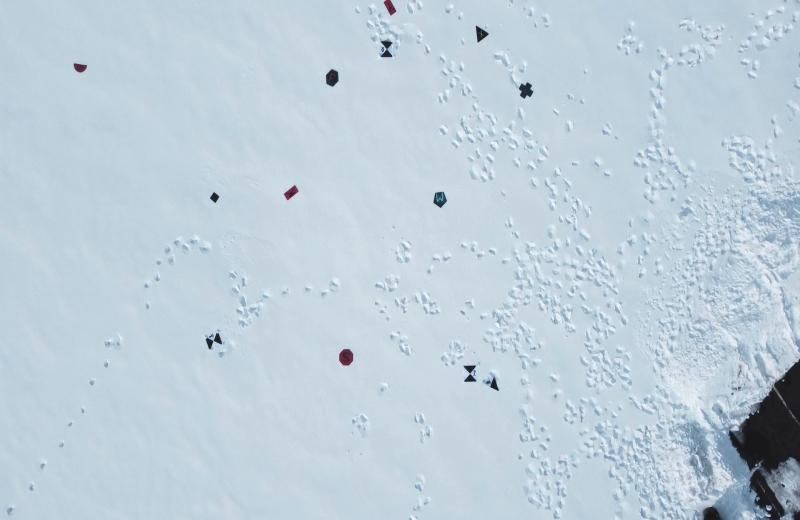Cross: (518, 82, 535, 99)
Hexagon: (324, 69, 340, 87)
Octagon: (338, 349, 354, 366)
Pentagon: (432, 191, 449, 208)
Rectangle: (284, 184, 299, 201), (383, 0, 397, 16)
Semi Circle: (72, 62, 89, 73)
Square: (210, 191, 220, 203)
Triangle: (474, 25, 490, 44)
